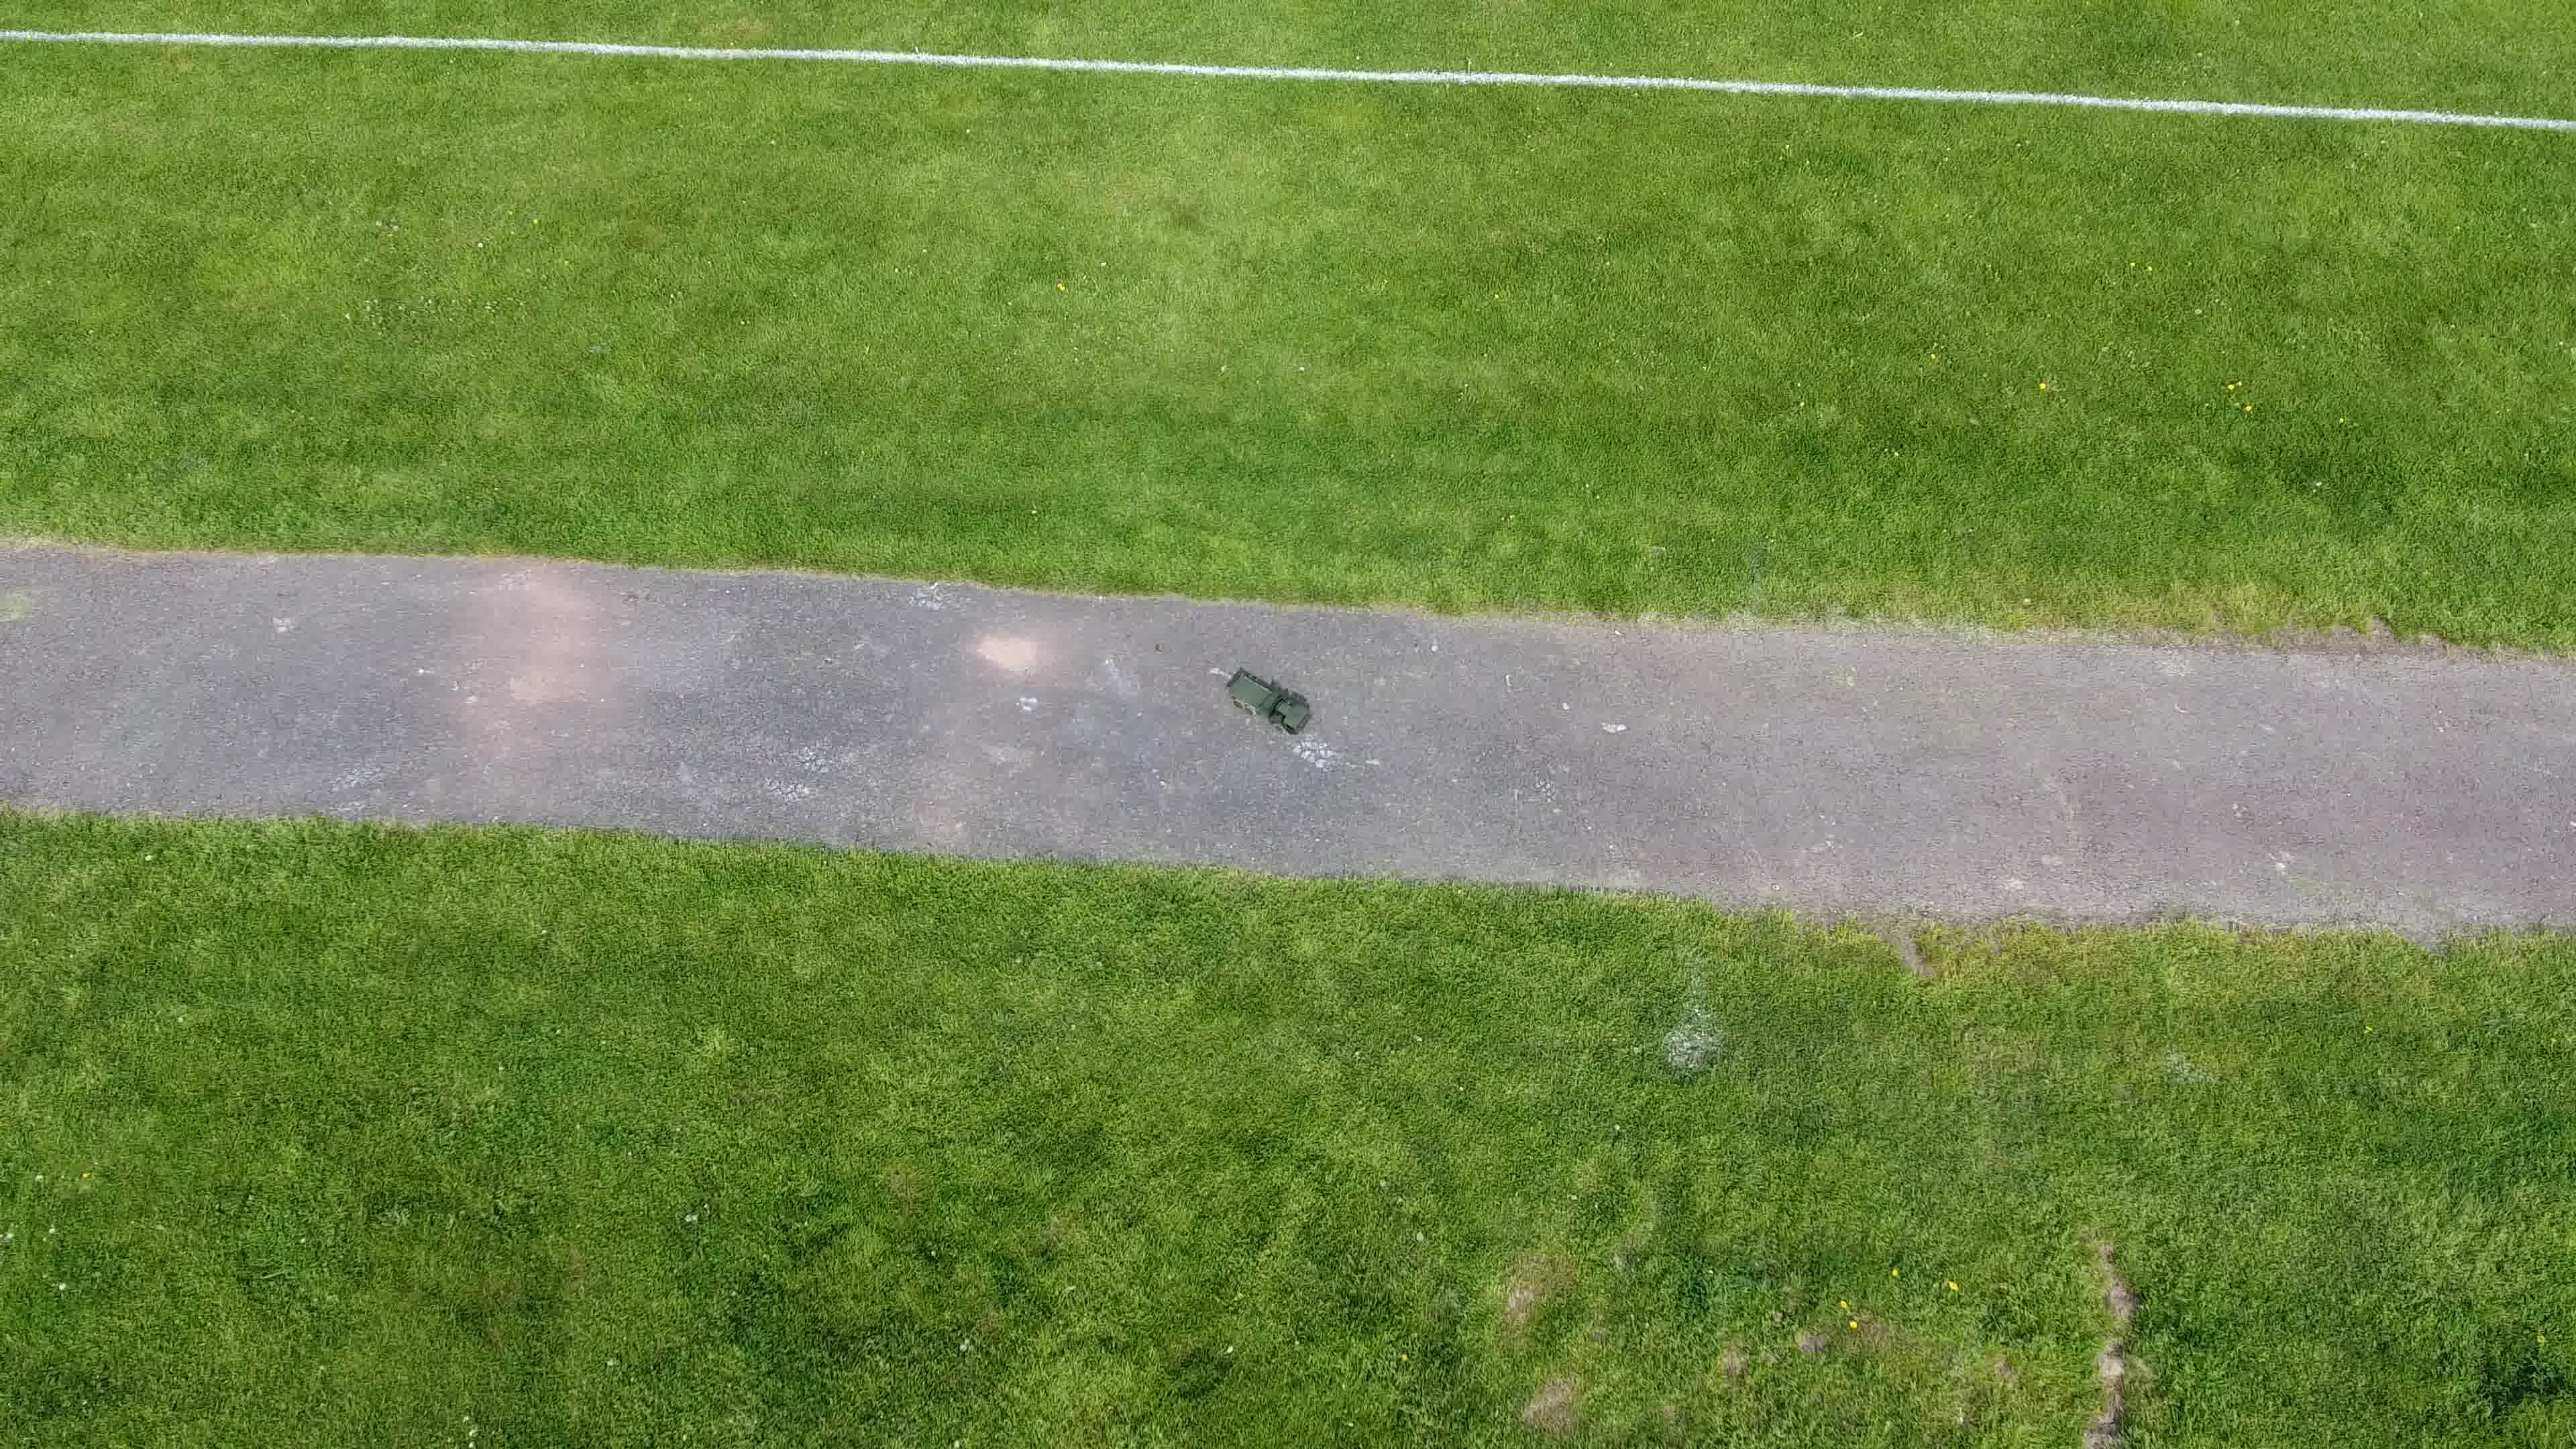transporter9: (1224, 669, 1315, 738)
